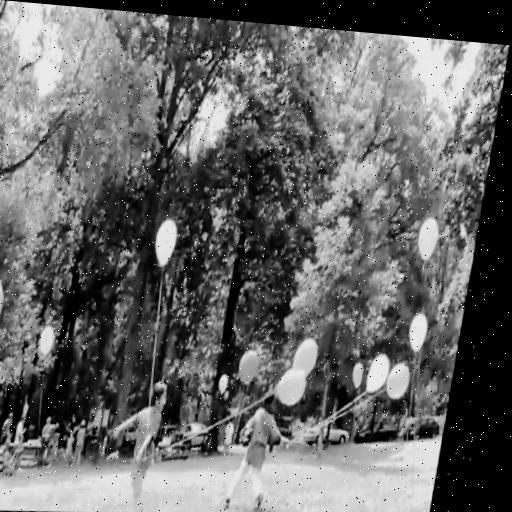balloon: (155, 221, 181, 272), (296, 341, 327, 382), (280, 376, 314, 413), (369, 358, 397, 402), (418, 223, 445, 267), (241, 353, 265, 393), (391, 370, 417, 406), (412, 321, 435, 360), (0, 278, 9, 344), (41, 329, 60, 359), (355, 370, 369, 398), (222, 380, 233, 400)
